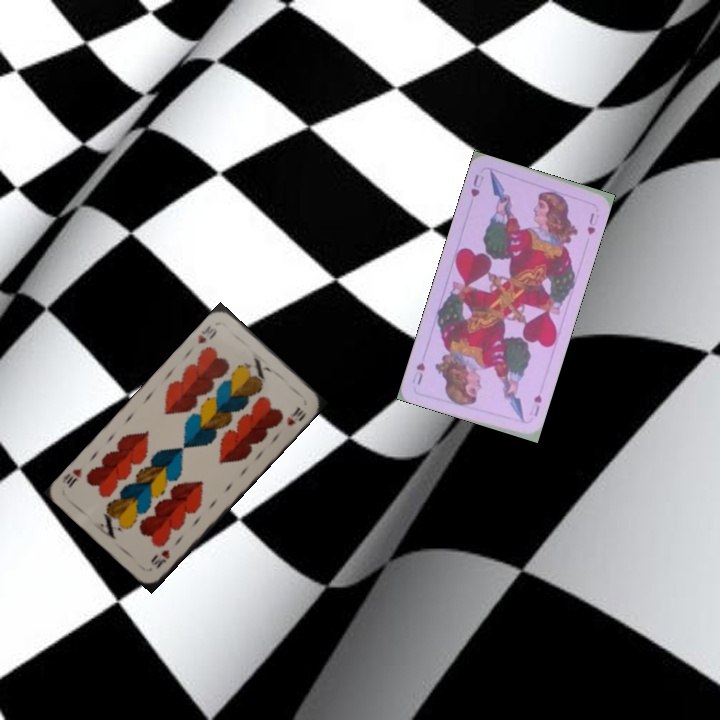H10: (147, 545, 173, 571), (193, 322, 220, 346)
HU: (467, 170, 487, 200), (530, 390, 544, 419)
